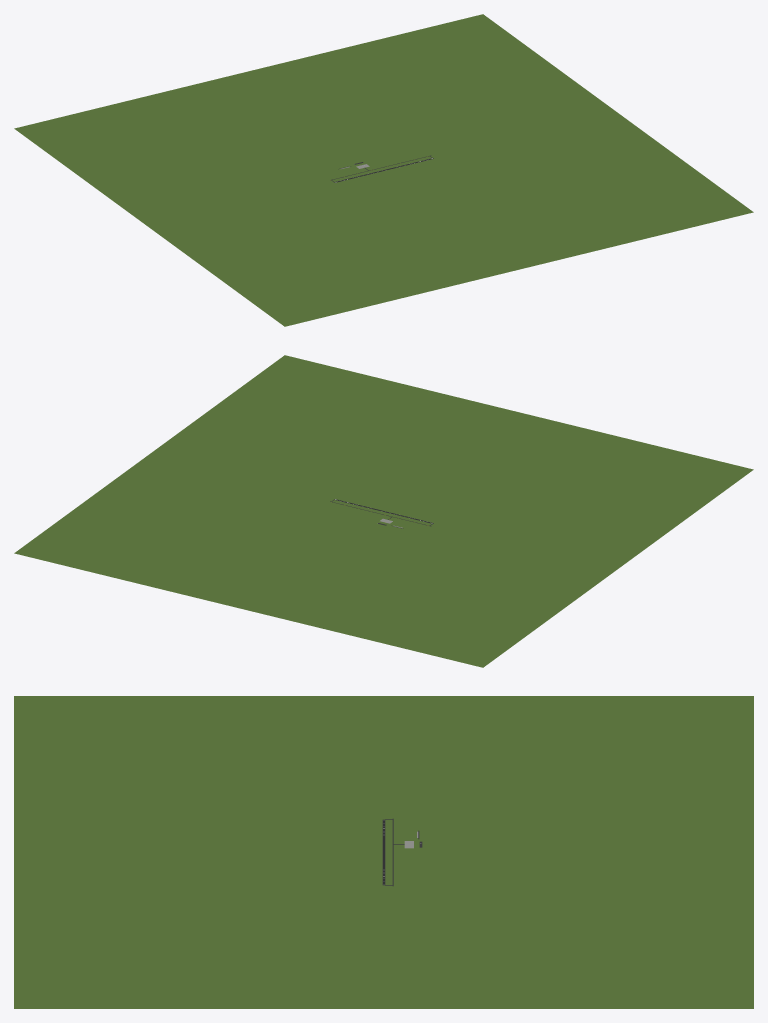
Rendered from egkk_airfield.glb.
The picture shows the model from 3 angles, top to bottom: view 1: azimuth 30°, elevation 25°; view 2: azimuth 150°, elevation 25°; view 3: azimuth 270°, elevation 25°; orthographic projection. The views are drawn at different scales.
Parts seen in each view (by area): view 1: egll_airfield; view 2: egll_airfield; view 3: egll_airfield.
Part boxes in pixels (bbox=[...]): egll_airfield: bbox=[14, 14, 753, 326]; egll_airfield: bbox=[14, 355, 753, 667]; egll_airfield: bbox=[14, 696, 753, 1008].
Bounding box in the file's own units: 16000 × 0.0533 × 16000.
